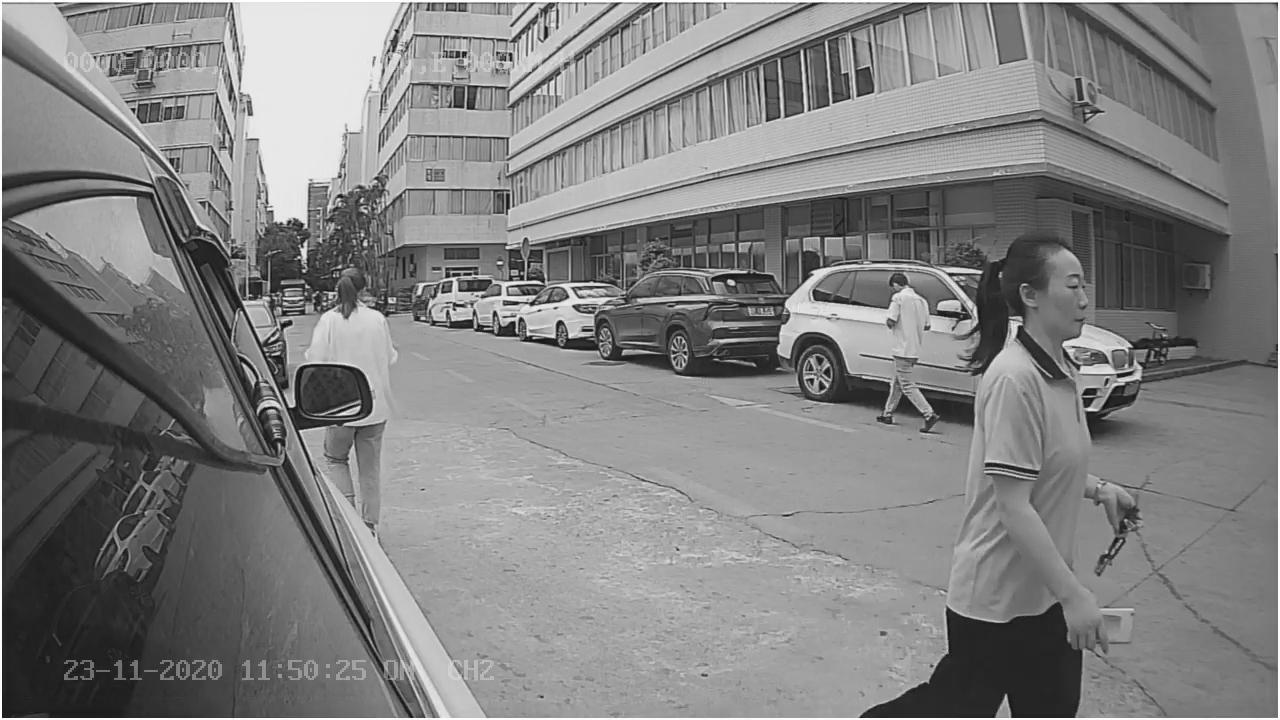person: (947, 236, 1141, 549), (867, 268, 942, 430), (300, 260, 396, 363)
